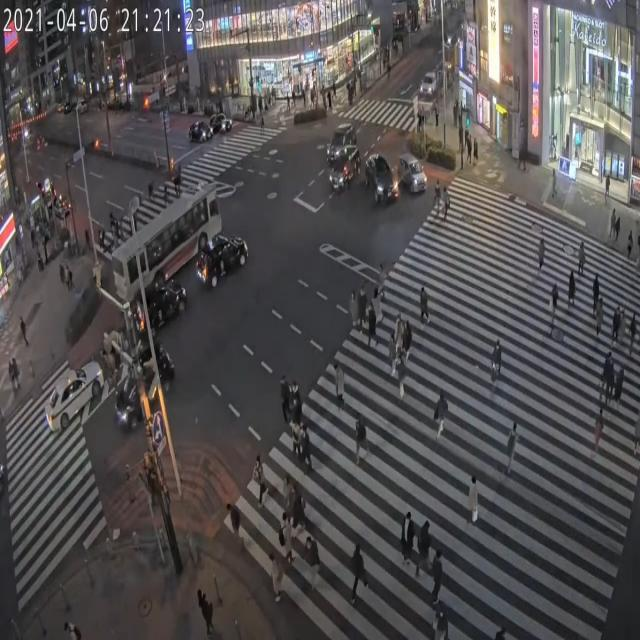bicycle: (488, 335, 503, 393)
humans: (341, 538, 369, 614), (222, 492, 247, 563), (328, 356, 351, 426), (303, 528, 325, 598), (248, 453, 270, 518), (266, 538, 282, 622), (347, 411, 370, 467), (433, 378, 453, 442), (193, 584, 215, 640), (415, 516, 432, 588), (413, 276, 433, 335), (466, 470, 484, 534), (395, 507, 413, 570), (431, 601, 456, 640), (502, 419, 518, 479), (289, 372, 305, 432), (275, 372, 290, 429), (396, 351, 410, 410), (431, 543, 445, 598), (299, 421, 314, 472), (443, 176, 457, 227), (356, 276, 366, 346), (547, 282, 559, 338), (385, 326, 396, 386), (346, 285, 358, 338), (592, 404, 604, 455), (364, 302, 375, 357), (289, 414, 300, 467), (402, 318, 414, 365), (589, 271, 603, 310), (594, 296, 608, 334), (394, 307, 403, 361), (576, 239, 587, 281), (630, 311, 639, 362), (431, 178, 442, 219), (567, 271, 577, 315), (606, 201, 616, 242), (535, 234, 544, 279), (607, 354, 616, 399), (618, 305, 628, 342), (626, 226, 636, 263), (374, 286, 383, 327), (634, 411, 640, 461), (614, 301, 620, 349), (379, 259, 385, 304), (618, 364, 624, 406), (604, 348, 608, 402), (616, 214, 622, 242)
